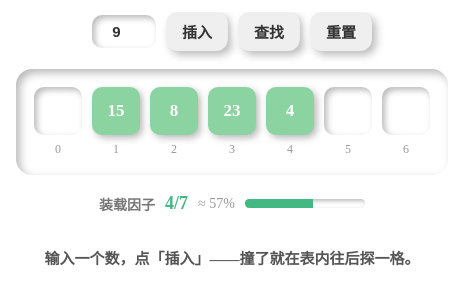
Test case: HashProbeViz 开放寻址互动 › TC-VIZ-PROBEVIZ-03 插入 5（非冲突）：filled→5、status 含「落座」
This screenshot has width=465, height=284.
Replace the text in the number field named "值" with "5" at (124, 32), box x1=92 y1=15 x2=156 y2=48
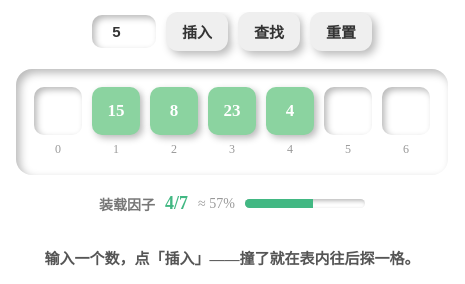
Click the button "插入" at (197, 32), box x1=166 y1=12 x2=228 y2=51
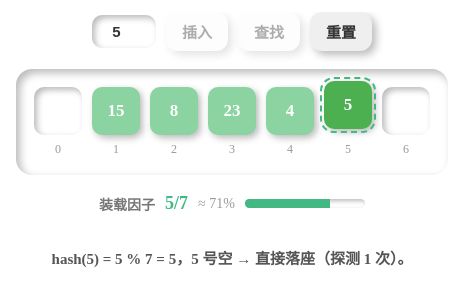
Check: the number of elements with class "filled" is 5, box x1=92 y1=87 x2=140 y2=135; x1=150 y1=87 x2=198 y2=135; x1=208 y1=87 x2=256 y2=135; x1=266 y1=87 x2=314 y2=135; x1=324 y1=81 x2=372 y2=129
Check: the message with class "status" shows "落座", box x1=52 y1=251 x2=412 y2=267
